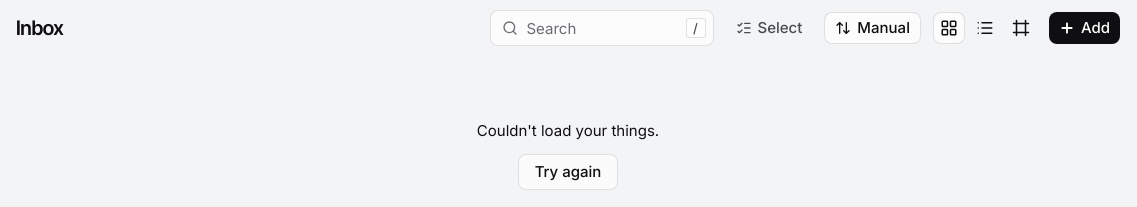
Board › shows an inline error with a working retry
Expected: the text "Couldn't load your things." is shown, [477, 120, 659, 142]
What coordinates should you click on to do the following:
click the button "Try again"
I would click on:
 (568, 172)
Its box is [518, 154, 618, 190].
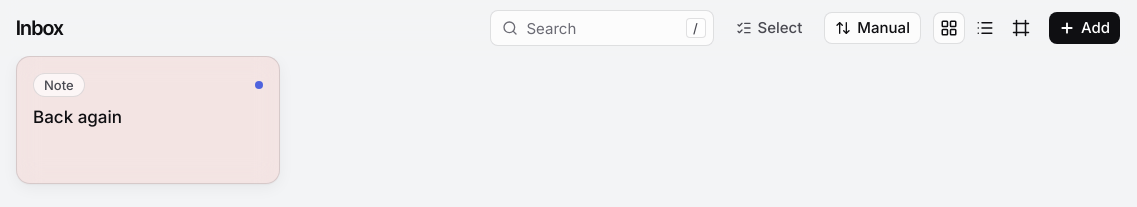
Result: the text "Back again" is shown at [33, 107, 122, 127]
Result: the text "Couldn't load your things." is gone
